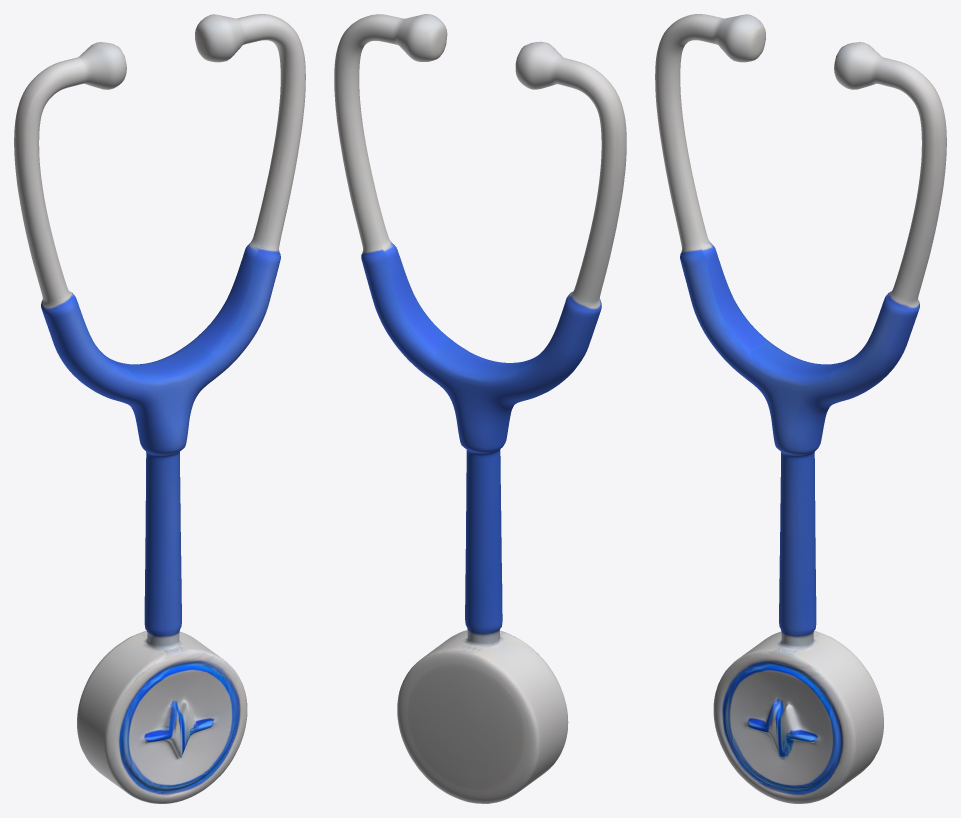
The model's file is base_basic_pbr.glb.
3 renders of one model, left to right at view 1: azimuth 30°, elevation 25°; view 2: azimuth 150°, elevation 25°; view 3: azimuth 330°, elevation 25°, orthographic.
Visible parts, largest first — view 1: model; view 2: model; view 3: model.
Boxes of the visible parts, bbox=[...] form: model: bbox=[14, 14, 305, 803]; model: bbox=[334, 14, 626, 803]; model: bbox=[655, 14, 946, 803].
Size of the model in its own units: 0.753 by 1.9 by 0.1779.
Materials: 1 (1 with a texture image).
